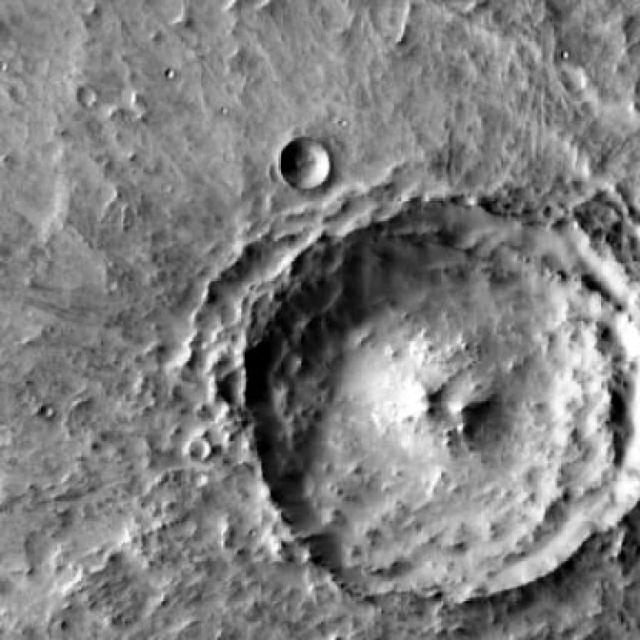crater: (247, 200, 640, 599), (277, 139, 331, 190), (74, 87, 94, 105)
